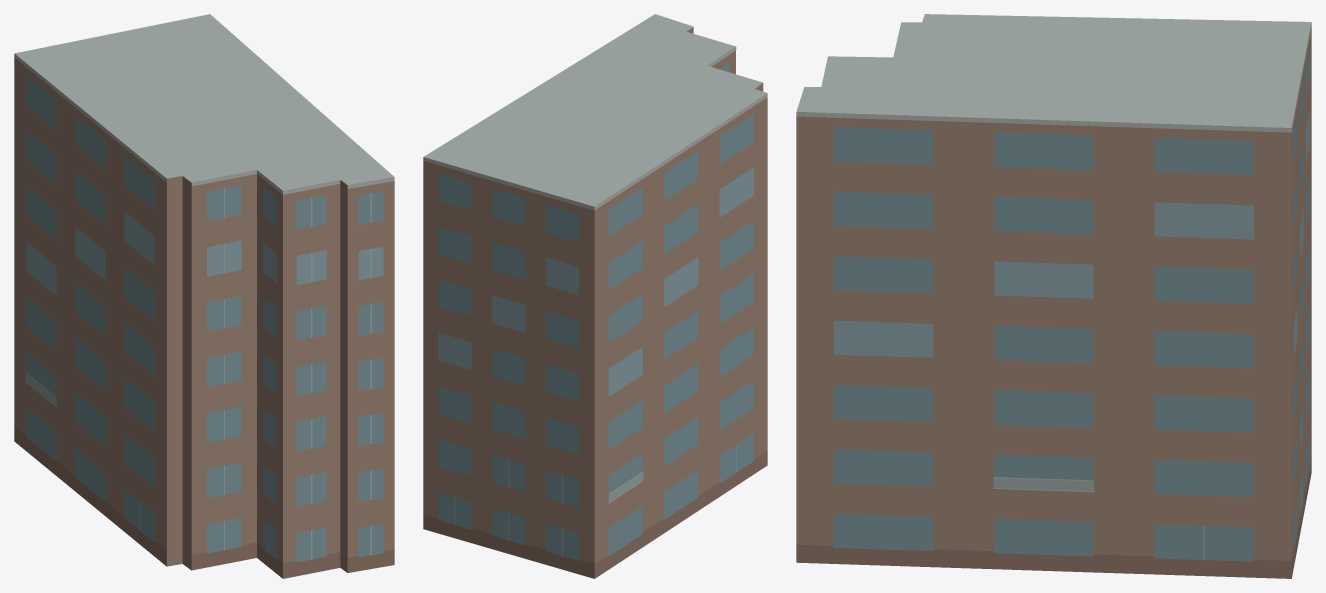
Rendered from survey-upis-32873461.glb.
3 renders of one model, left to right at view 1: azimuth 30°, elevation 25°; view 2: azimuth 150°, elevation 25°; view 3: azimuth 270°, elevation 25°, orthographic. The views are drawn at different scales.
Visible parts, largest first — view 1: survey-upis-32873461.tmp; view 2: survey-upis-32873461.tmp; view 3: survey-upis-32873461.tmp.
Boxes of the visible parts, left/top/right/bottom form: survey-upis-32873461.tmp: left=14, top=14, right=394, bottom=578; survey-upis-32873461.tmp: left=423, top=14, right=767, bottom=578; survey-upis-32873461.tmp: left=796, top=14, right=1311, bottom=578.
Bounding box in the file's own units: 12.87 × 23.7 × 24.56.
